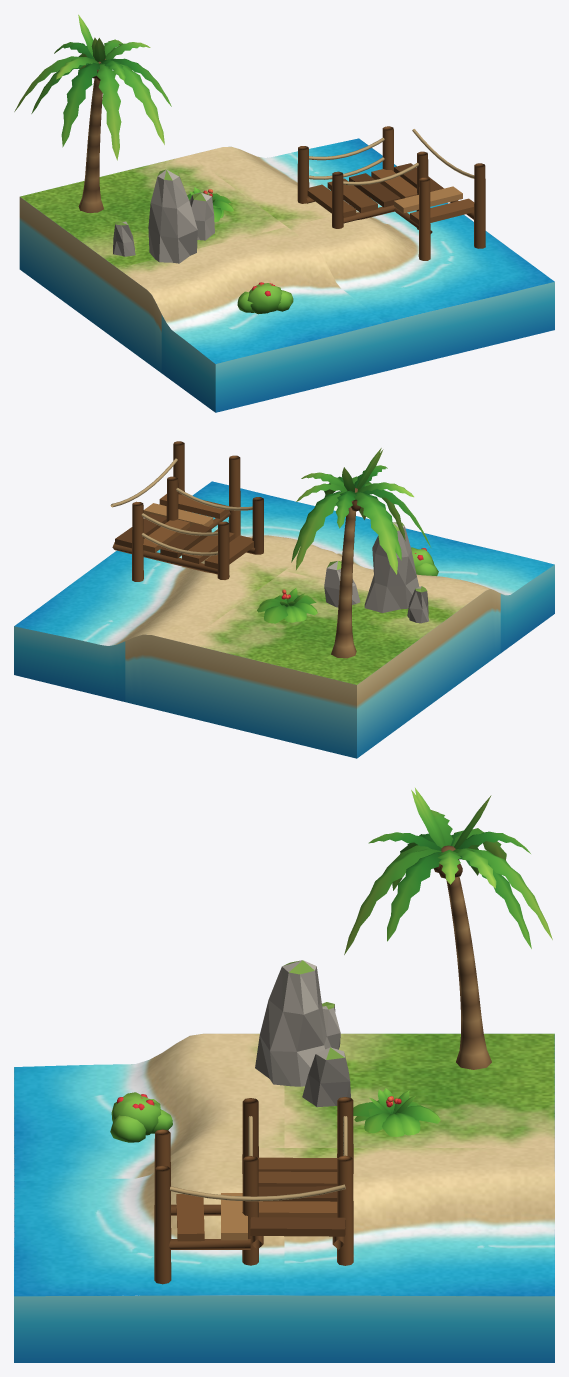
The model's file is Corner_Pier.obj.
3 views of the same model, one above another, from view 1: azimuth 30°, elevation 25°; view 2: azimuth 150°, elevation 25°; view 3: azimuth 270°, elevation 25° (orthographic). The views are drawn at different scales.
Visible parts, largest first — view 1: Corner_Pier_Palette, Corner_Pier_Corner_Pier_Terrain; view 2: Corner_Pier_Palette, Corner_Pier_Corner_Pier_Terrain; view 3: Corner_Pier_Corner_Pier_Terrain, Corner_Pier_Palette.
Boxes of the visible parts, <box> form: Corner_Pier_Palette: <box>14,14,554,412</box>; Corner_Pier_Corner_Pier_Terrain: <box>20,138,554,363</box>; Corner_Pier_Palette: <box>14,441,554,758</box>; Corner_Pier_Corner_Pier_Terrain: <box>14,481,554,684</box>; Corner_Pier_Corner_Pier_Terrain: <box>14,1033,554,1296</box>; Corner_Pier_Palette: <box>14,788,554,1362</box>.
Bounding box in the file's own units: 4.27 × 2.97 × 4.
Materials: 2 (2 with a texture image).
